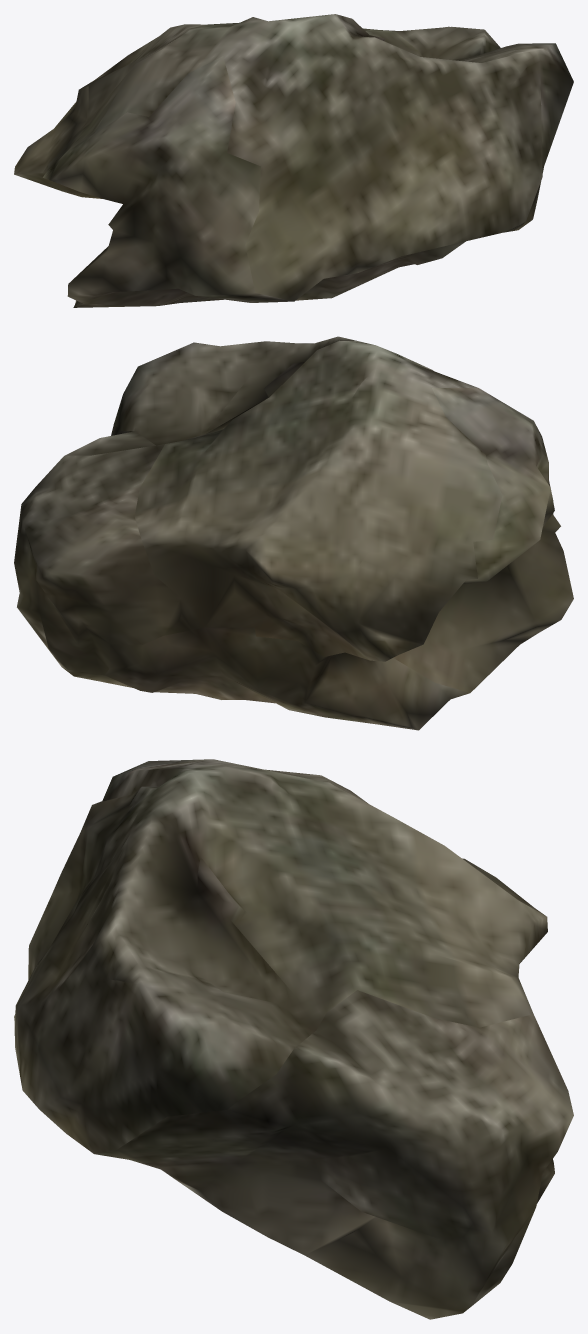
Rendered from moss_rock_5.glb.
The picture shows the model from 3 angles, top to bottom: view 1: azimuth 30°, elevation 25°; view 2: azimuth 150°, elevation 25°; view 3: azimuth 270°, elevation 25°; orthographic projection. The views are drawn at different scales.
Visible parts, largest first — view 1: rock_moss_set_02_rock11; view 2: rock_moss_set_02_rock11; view 3: rock_moss_set_02_rock11.
Boxes of the visible parts, x1=… form: rock_moss_set_02_rock11: x1=14, y1=14, x2=573, y2=307; rock_moss_set_02_rock11: x1=14, y1=336, x2=573, y2=730; rock_moss_set_02_rock11: x1=14, y1=759, x2=573, y2=1319.
Bounding box in the file's own units: 1.95 × 1.31 × 1.53.
1 material, 1 textured.
